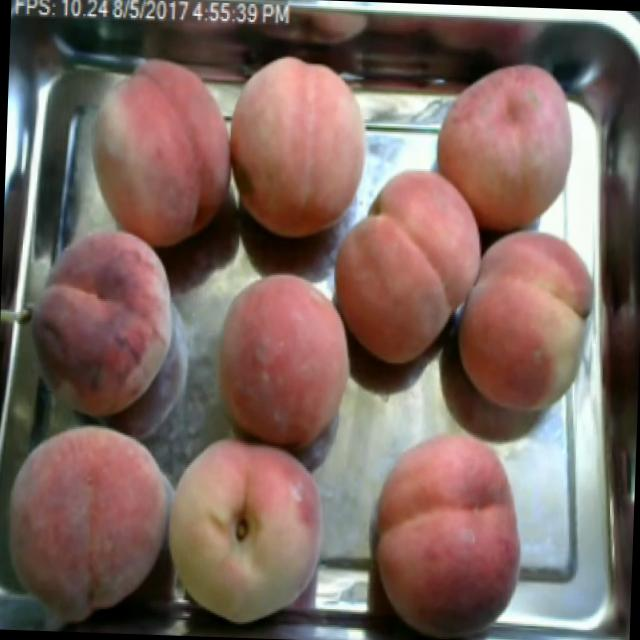Fruit: (0, 400, 174, 634), (322, 153, 497, 380), (21, 215, 194, 444), (359, 421, 535, 640), (161, 420, 340, 634), (437, 213, 614, 425), (195, 262, 368, 466), (75, 48, 236, 258), (223, 45, 384, 250), (426, 48, 590, 242)
